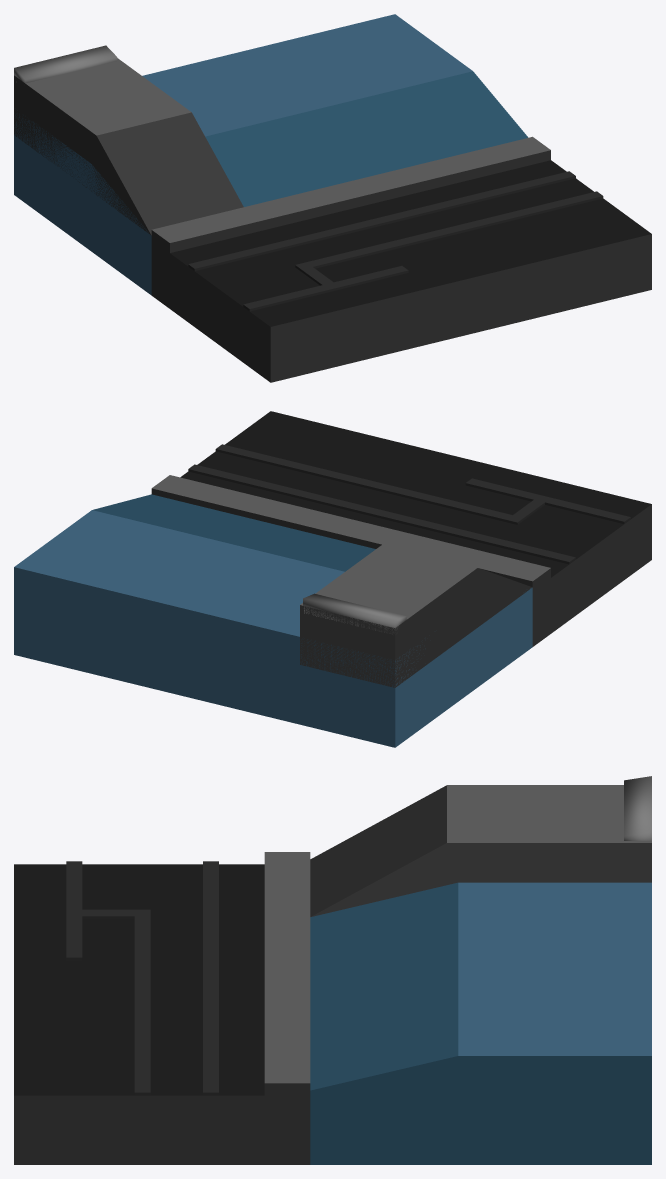
File: newsho-51.glb
3 renders of one model, top to bottom at view 1: azimuth 30°, elevation 25°; view 2: azimuth 150°, elevation 25°; view 3: azimuth 270°, elevation 25°, orthographic. The views are drawn at different scales.
Visible parts, largest first — view 1: newsho-51; view 2: newsho-51; view 3: newsho-51.
Part boxes in pixels (bbox=[...]): newsho-51: bbox=[14, 14, 651, 382]; newsho-51: bbox=[14, 411, 651, 747]; newsho-51: bbox=[14, 776, 651, 1164].
Bounding box in the file's own units: 2 × 0.6368 × 2.33.
